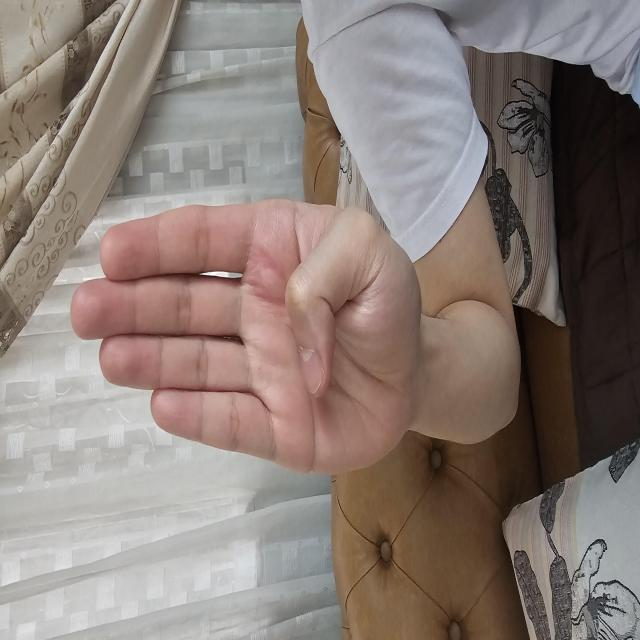B: (162, 68, 443, 425)
